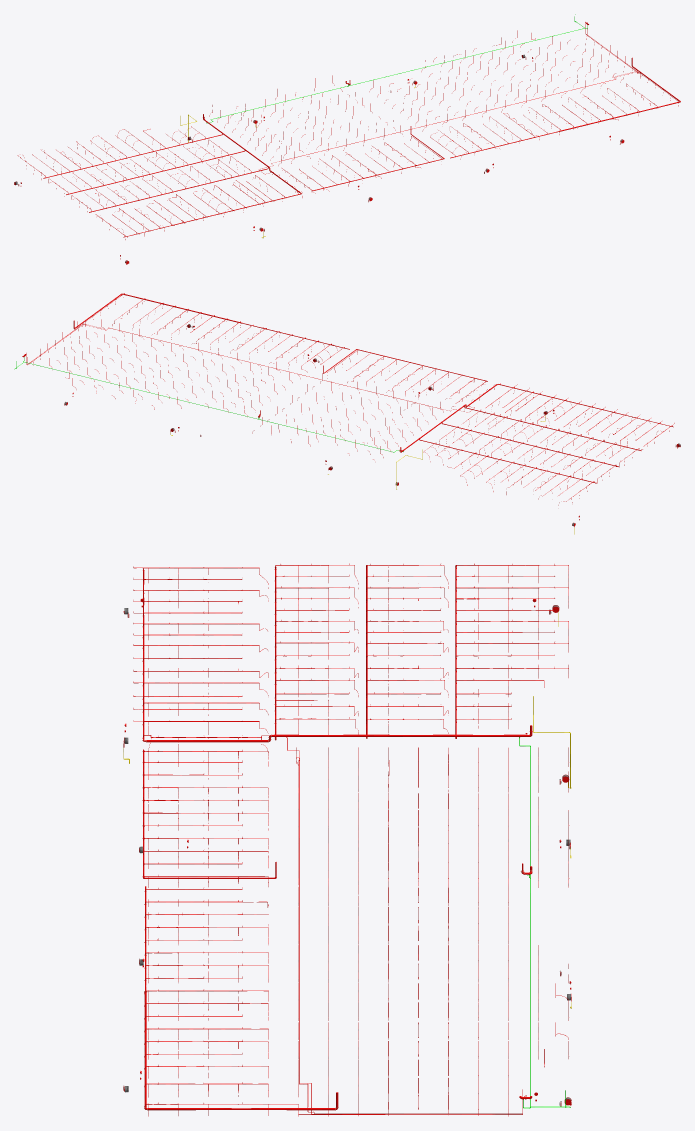
Rendered from detail-sprinklers-lite-3-2f.glb.
3 renders of one model, top to bottom at view 1: azimuth 30°, elevation 25°; view 2: azimuth 150°, elevation 25°; view 3: azimuth 270°, elevation 25°, orthographic. The views are drawn at different scales.
Bounding box in the file's own units: 103 × 7.44 × 35.83.
